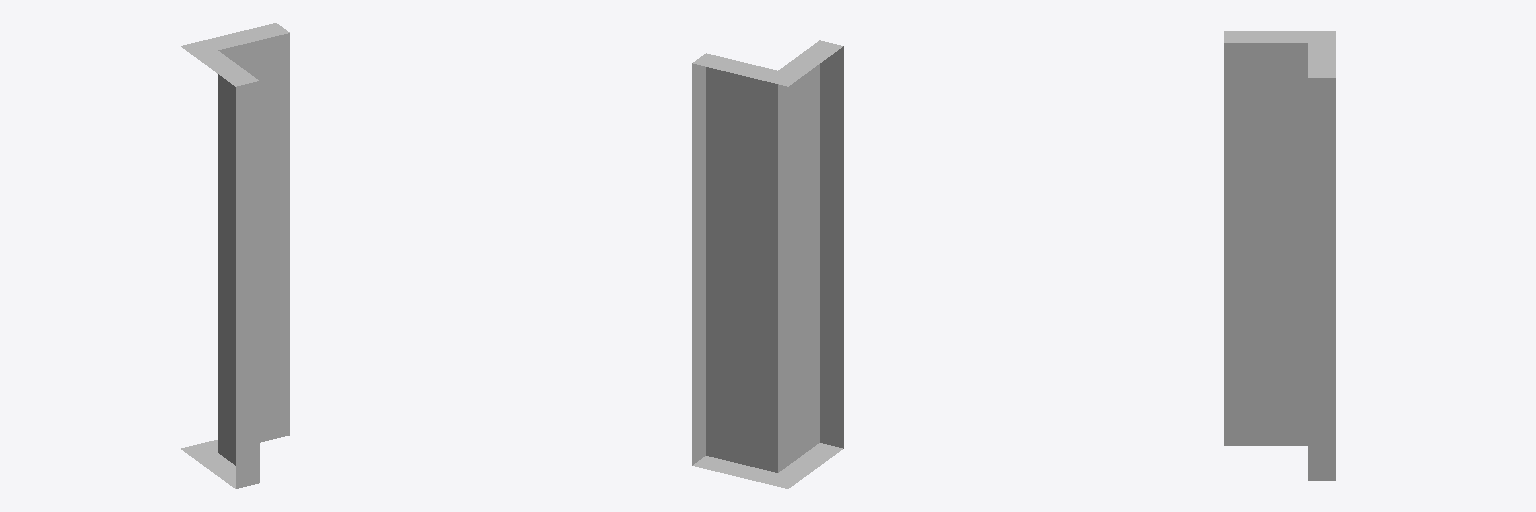
File: wall_modular_tiled_half_corner_outer_B.obj
The picture shows the model from 3 angles: view 1: azimuth 30°, elevation 25°; view 2: azimuth 150°, elevation 25°; view 3: azimuth 270°, elevation 25°; orthographic projection.
Parts seen in each view (by area): view 1: wall_modular_tiled_half_corner_outer_B; view 2: wall_modular_tiled_half_corner_outer_B; view 3: wall_modular_tiled_half_corner_outer_B.
Boxes of the visible parts, <box> form: wall_modular_tiled_half_corner_outer_B: <box>181,23,289,488</box>; wall_modular_tiled_half_corner_outer_B: <box>692,40,843,488</box>; wall_modular_tiled_half_corner_outer_B: <box>1224,31,1335,480</box>.
Size of the model in its own units: 1 by 4 by 1.